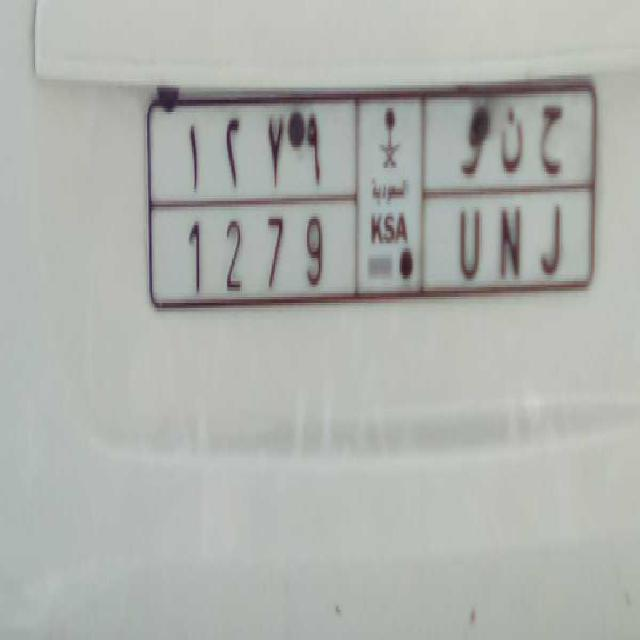license_plate: (166, 195, 572, 302)
